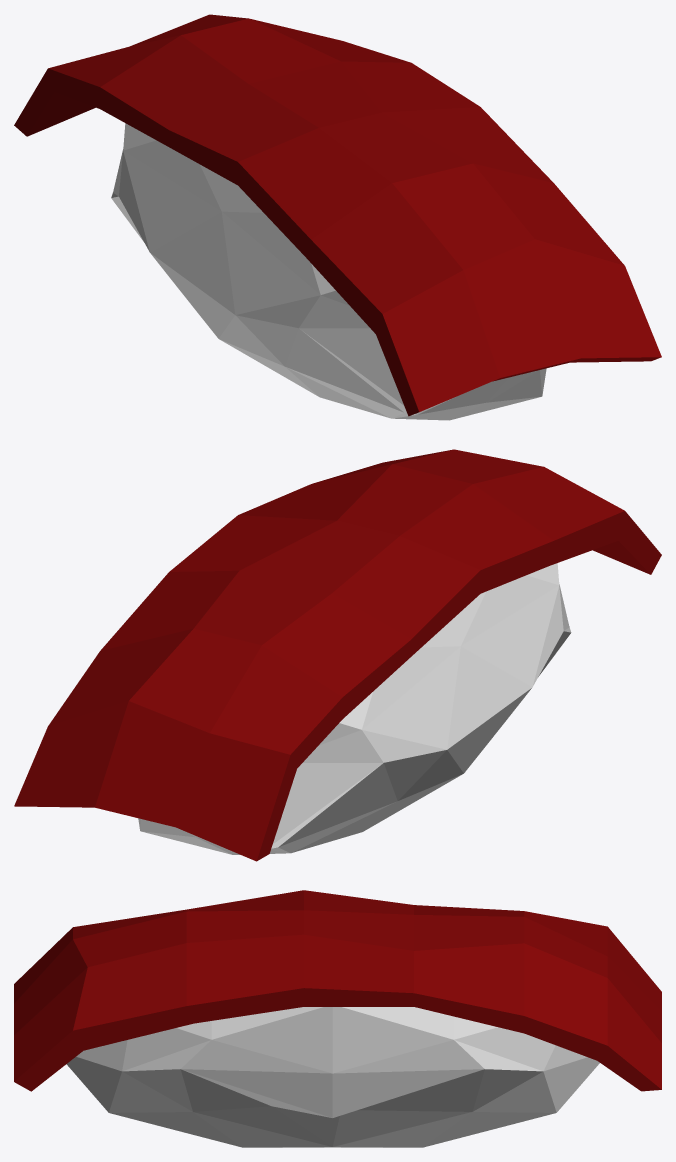
File: maguro.gltf
3 views of the same model, one above another, from view 1: azimuth 30°, elevation 25°; view 2: azimuth 150°, elevation 25°; view 3: azimuth 270°, elevation 25° (orthographic). The views are drawn at different scales.
Visible parts, largest first — view 1: Maguro Maguro_GP, Maguro_GP Rice; view 2: Maguro Maguro_GP, Maguro_GP Rice; view 3: Maguro Maguro_GP, Maguro_GP Rice.
Part boxes in pixels (x1,y1,x2,y2): Maguro Maguro_GP: (14,14,661,416); Maguro_GP Rice: (111,123,546,420); Maguro Maguro_GP: (14,449,661,861); Maguro_GP Rice: (138,563,571,854); Maguro Maguro_GP: (14,890,661,1091); Maguro_GP Rice: (66,1007,599,1147).
Size of the model in its own units: 2.12 by 1.81 by 5.41.
